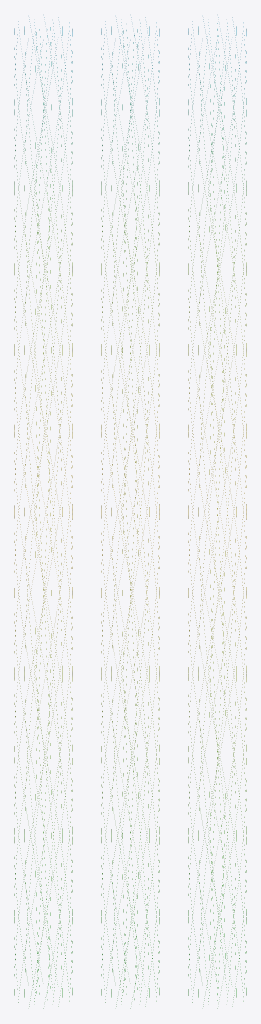
Rendered from SM_DarklineForSpline_13.FBX.
3 views of the same model, side by side, from view 1: azimuth 30°, elevation 25°; view 2: azimuth 210°, elevation 25°; view 3: azimuth 270°, elevation 25° (orthographic).
Visible parts, largest first — view 1: SM_DarklineForSpline_13; view 2: SM_DarklineForSpline_13; view 3: SM_DarklineForSpline_13.
Boxes of the visible parts, x1=… form: SM_DarklineForSpline_13: x1=14, y1=17, x2=72, y2=1008; SM_DarklineForSpline_13: x1=101, y1=17, x2=159, y2=1008; SM_DarklineForSpline_13: x1=188, y1=17, x2=246, y2=1008.
Size of the model in its own units: 10.99 by 10.99 by 200.
